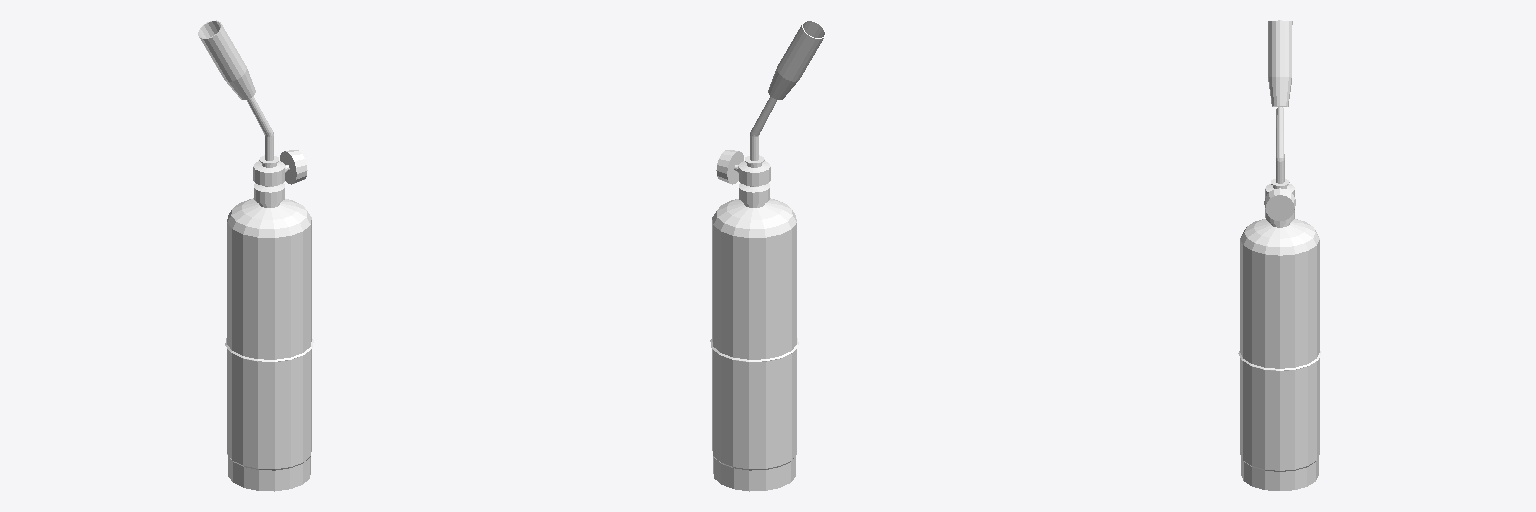
The robot description file, URDF, robot "apple":
<?xml version="1.0" encoding="utf-8"?>
<robot name="apple">
  <link name="base_link">
    <contact>
      <lateral_friction value="0.5"/>
      <rolling_friction value="0.0"/>
      <contact_cfm value="0.0"/>
      <contact_erp value="1.0"/>
    </contact>
    <inertial>
      <origin rpy="0 0 0" xyz="0 0 0"/>
      <mass value=".1"/>
      <inertia ixx="0" ixy="0" ixz="0" iyy="0" iyz="0" izz="0"/>
    </inertial>
    <visual>
      <origin rpy="1.57 0 0" xyz="0 0 0.5"/>
      <geometry>
        <mesh filename="models/meshes/welder/welder.obj" scale="0.1 0.1 0.1"/>
      </geometry>
      <material name="hi">
        <color rgba="1 1 1 1"/>
      </material>
    </visual>
    <collision>
      <origin rpy="1.57 0 0" xyz="0 0 0.5"/>
      <geometry>
        <mesh filename="models/meshes/welder/welder.obj" scale="0.1 0.1 0.1"/>
      </geometry>
    </collision>
  </link>
</robot>

--- What the picture shows (computed from the rendered views, not written in the file) ---
Views: 3 orthographic renders of the robot side by side, from view 1: azimuth 30°, elevation 25°; view 2: azimuth 150°, elevation 25°; view 3: azimuth 270°, elevation 25°.
Robot: apple — 1 links, 0 joints (none); root link base_link; default pose: every joint at zero.
Links seen in each view (by area): view 1: base_link; view 2: base_link; view 3: base_link.
Boxes of the visible links, x1,y1,x2,y2 form: base_link: [198, 20, 313, 491]; base_link: [710, 20, 825, 491]; base_link: [1238, 20, 1321, 490].
Bounding box of the posed robot: 0.2081 × 0.149 × 0.8535 m (x, y, z).
Meshes: 1 distinct files referenced, 1 mesh visuals loaded (1 OBJ).